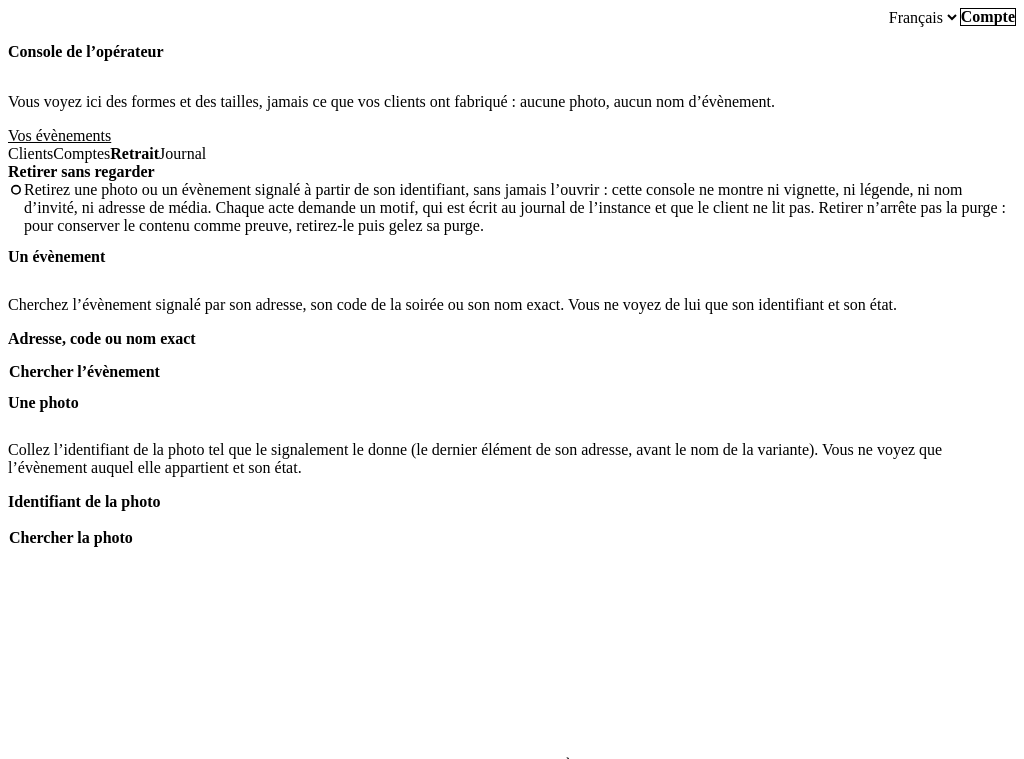
Test case: finding an event from what a report quoted › says what the server said when it refuses the query
This screenshot has width=1024, height=759.
In the field labelled "Adresse, code ou nom exact": {"x": 512, "y": 355} [8,348,1016,362], type "x"
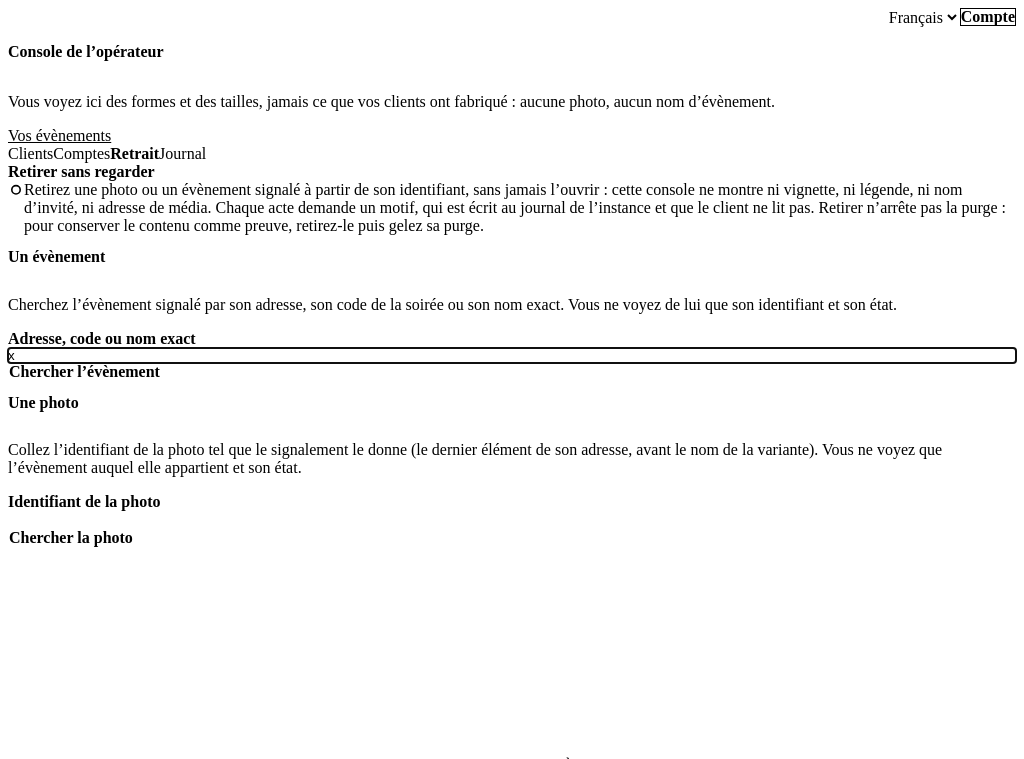
Click the button "Chercher l’évènement": {"x": 84, "y": 372} [8,362,161,380]
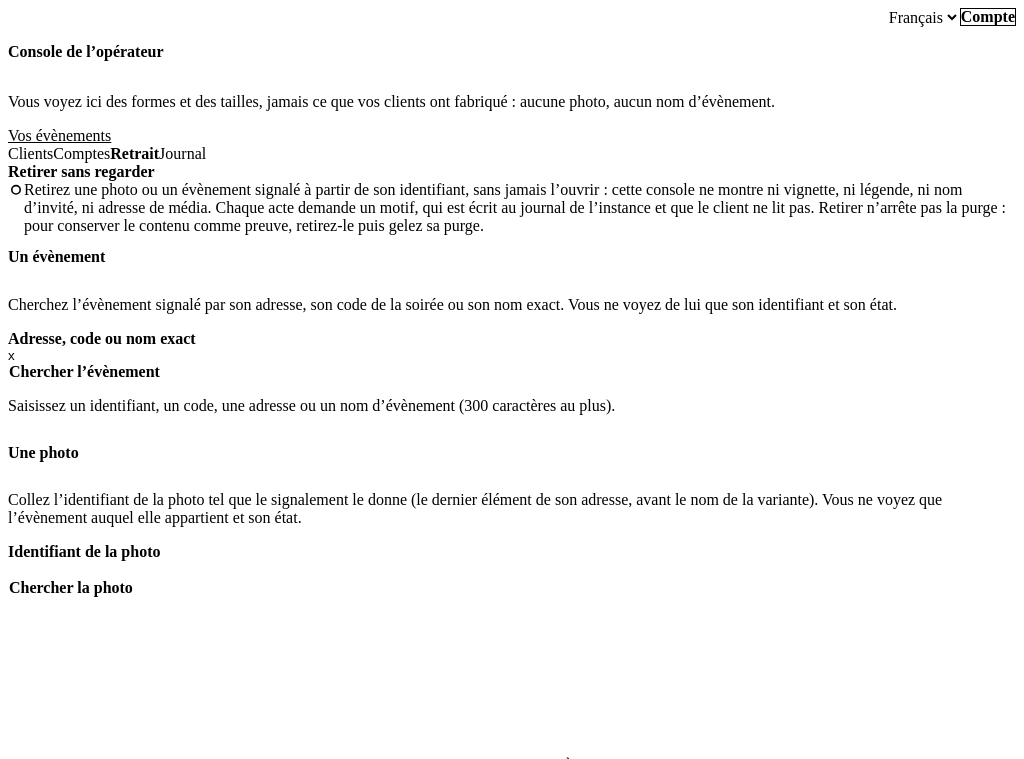
Result: the message shows "Saisissez un identifiant, un code, une adresse ou un nom d’évènement (300 caractères au plus)." at [8,396,615,414]
